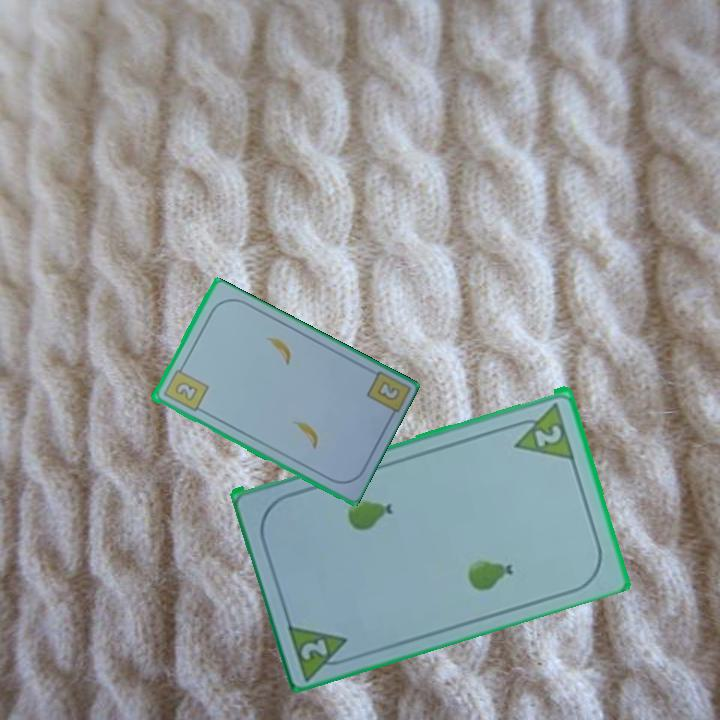2b: (160, 361, 211, 415), (373, 378, 403, 404)
2p: (283, 617, 358, 681), (531, 420, 565, 449)
